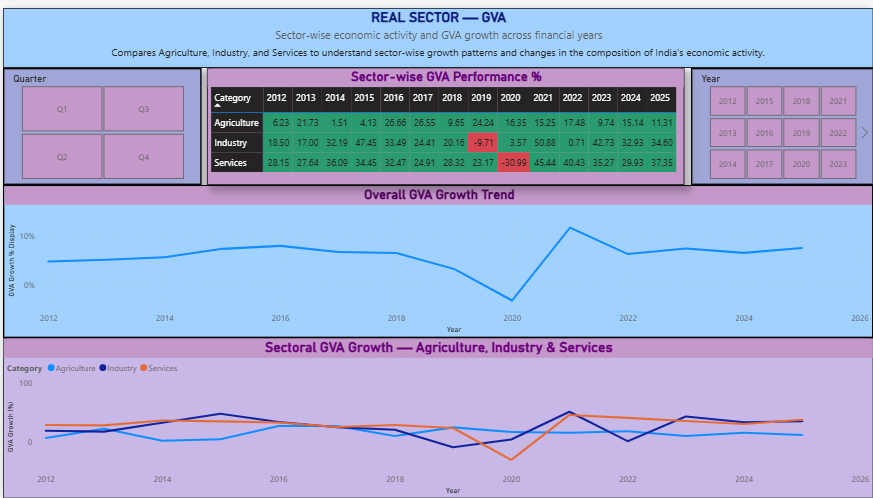

The dashboard page shown, as its layout file describes it:
{"tool":"powerbi","page":{"name":"REAL SECTOR ","canvas":[1280,720],"ordinal":3},"visuals":[{"type":"textbox","title":"REAL SECTOR — GVA","box":[23.9,0,1246.3,88.1],"z":0},{"type":"slicer","fields":{"Values":["CPI.Year"]},"box":[295.5,74.6,619.4,91],"z":1000},{"type":"slicer","fields":{"Values":["CPI.Quarter"]},"box":[26.7,181.7,268.3,141.7],"z":2000},{"type":"lineChart","title":"Sectoral GVA Growth — Agriculture, Industry & Services","fields":{"Category":["CPI.Year"],"Y":["Sum(CPI.Value)"],"Series":["CPI.Category"]},"box":[320.9,165.7,959.7,158.2],"z":4000},{"type":"lineChart","title":"Overall GVA Growth Trend","fields":{"Category":["CPI.Year"],"Y":["CPI.GVA Growth % Display"]},"box":[310,323.3,960,225],"z":4001},{"type":"pivotTable","title":"Sector-wise GVA Performance %","fields":{"Rows":["CPI.Category"],"Columns":["CPI.Year"],"Values":["Sum(CPI.Value)"]},"box":[310,561.7,960,158.3],"z":4002}]}

Visuals, with their boxes in screenshot pixels (x1, y1, x2, y2), scaled from the page's 1280x720 canvas onto the 873x498 screenshot:
"REAL SECTOR — GVA" textbox: l=16, t=0, r=866, b=61
slicer - CPI.Year: l=202, t=52, r=624, b=115
slicer - CPI.Quarter: l=18, t=126, r=201, b=224
"Sectoral GVA Growth — Agriculture, Industry & Services" lineChart: l=219, t=115, r=872, b=224
"Overall GVA Growth Trend" lineChart: l=211, t=224, r=866, b=379
"Sector-wise GVA Performance %" pivotTable: l=211, t=389, r=866, b=497
